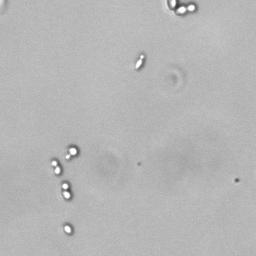budding: (60, 181, 74, 201), (50, 158, 63, 176), (65, 145, 79, 160)
cluster: (165, 1, 199, 19)
elongation: (134, 54, 145, 69)
individual: (63, 224, 74, 234)
